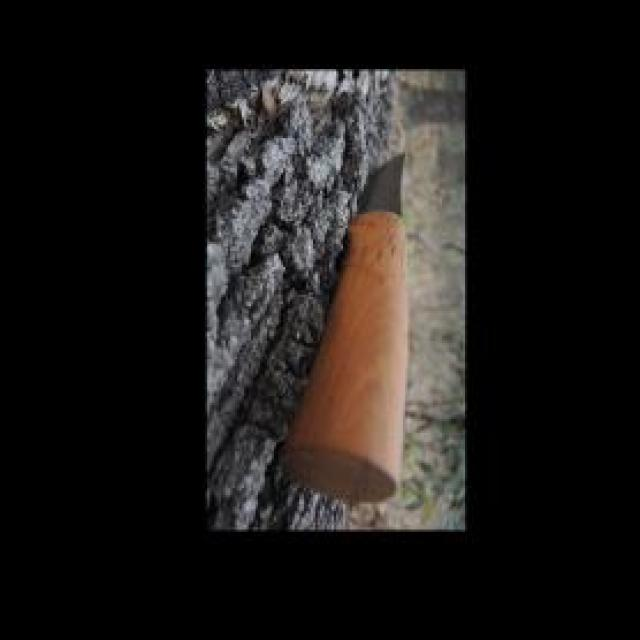knife: (282, 138, 414, 507)
